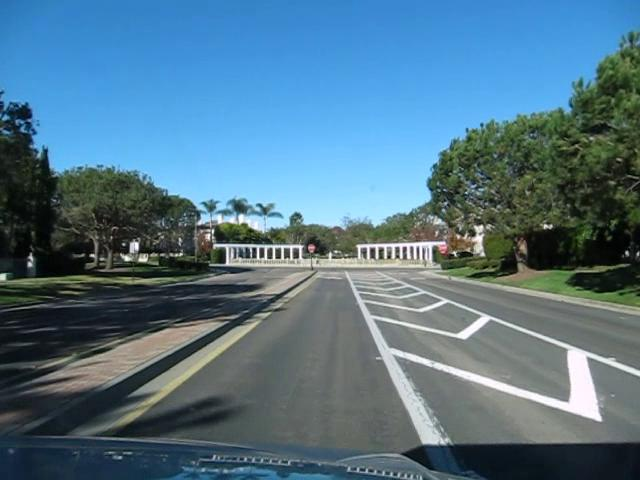stop: (438, 243, 447, 253)
